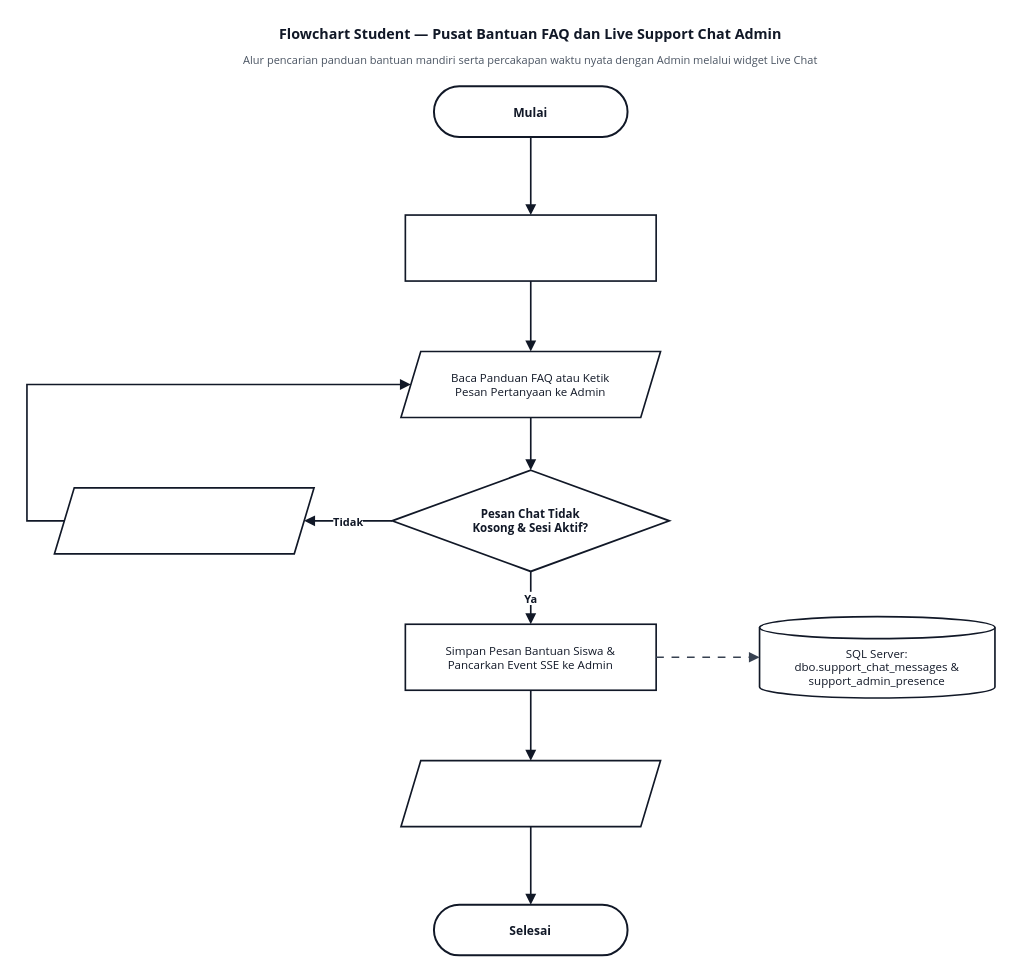
Image size: 1015x975. Some labels were removed from this diagram. The shapes that lost their labels are listed below. From the top down, each one's centre as x and y in pixels, then its label:
At point (530, 247): "Buka Pusat Bantuan atau Klik Tombol Mengambang Chat Admin".
At point (183, 520): "Tampilkan Peringatan Input Pesan Chat".
At point (530, 793): "Tampilkan Pesan & Balasan Admin Secara Real-Time".
